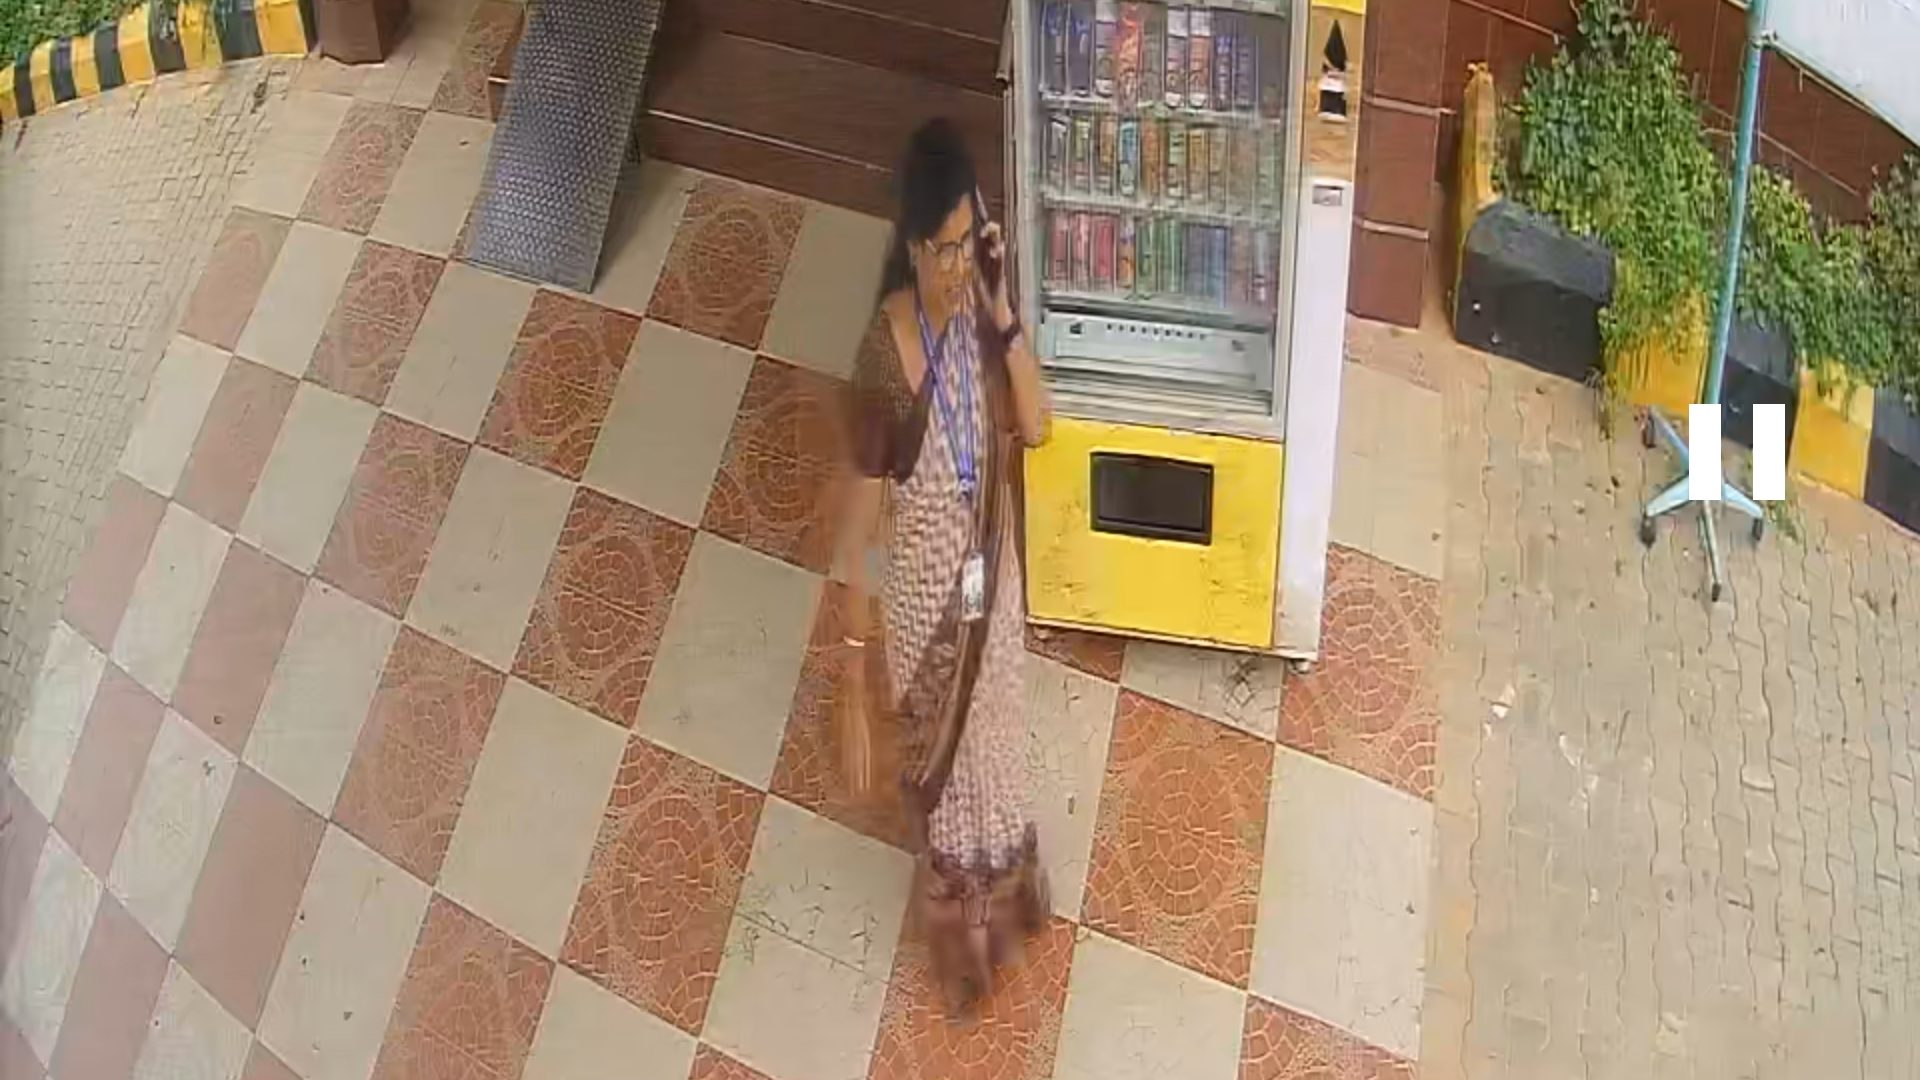not intruder: (825, 117, 1083, 989)
